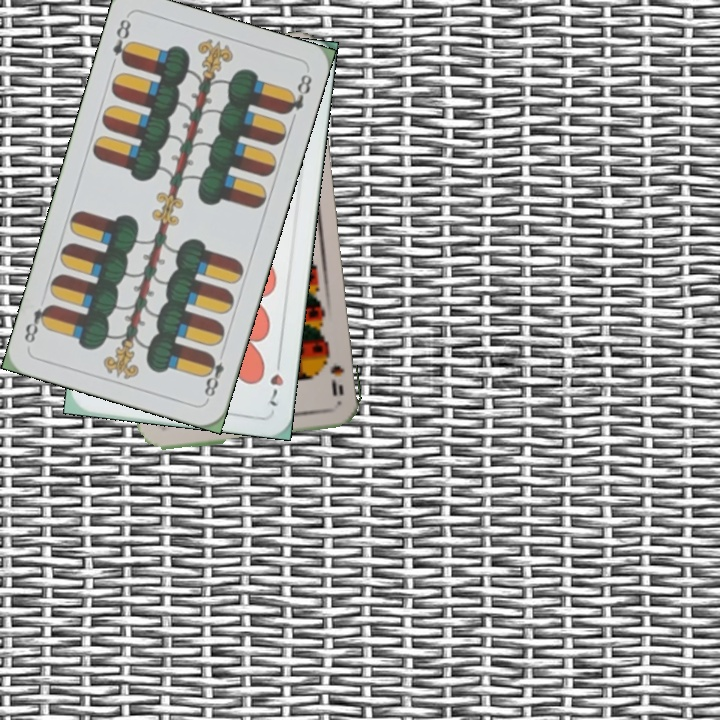E8: (200, 350, 227, 403), (108, 15, 135, 68)
H7: (263, 353, 287, 409)
S9: (320, 345, 346, 399)
